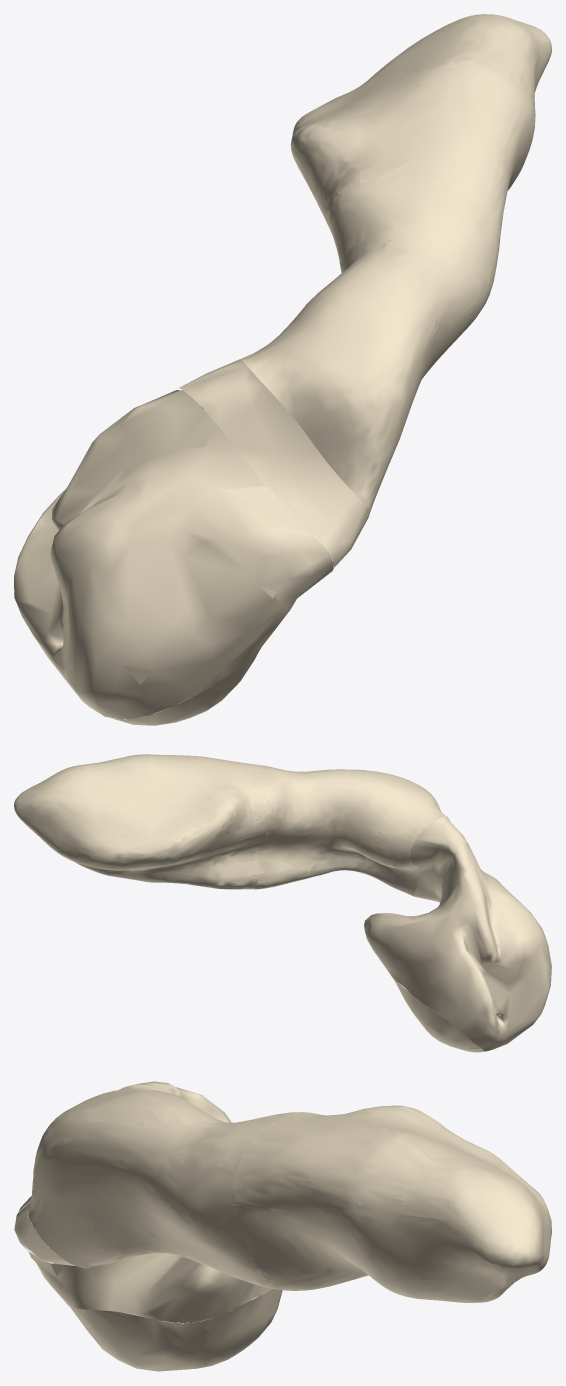
The model's file is 3d-vh-m-pancreas.glb.
3 renders of one model, top to bottom at view 1: azimuth 30°, elevation 25°; view 2: azimuth 150°, elevation 25°; view 3: azimuth 270°, elevation 25°, orthographic. The views are drawn at different scales.
Visible parts, largest first — view 1: VH_M_head_of_pancreas, VH_M_body_of_pancreas, VH_M_tail_of_pancreas, VH_M_neck_of_pancreas, VH_M_uncinate_process_of_the_pancreas; view 2: VH_M_tail_of_pancreas, VH_M_head_of_pancreas, VH_M_body_of_pancreas, VH_M_neck_of_pancreas, VH_M_uncinate_process_of_the_pancreas; view 3: VH_M_tail_of_pancreas, VH_M_body_of_pancreas, VH_M_head_of_pancreas, VH_M_uncinate_process_of_the_pancreas, VH_M_neck_of_pancreas.
Part boxes in pixels (x1,y1,x2,y2): VH_M_head_of_pancreas: [14, 390, 333, 719]; VH_M_body_of_pancreas: [241, 177, 500, 515]; VH_M_tail_of_pancreas: [290, 14, 551, 235]; VH_M_neck_of_pancreas: [178, 359, 369, 567]; VH_M_uncinate_process_of_the_pancreas: [111, 648, 260, 725]; VH_M_tail_of_pancreas: [14, 754, 271, 889]; VH_M_head_of_pancreas: [364, 843, 551, 1051]; VH_M_body_of_pancreas: [242, 762, 445, 896]; VH_M_neck_of_pancreas: [410, 816, 467, 902]; VH_M_uncinate_process_of_the_pancreas: [391, 976, 485, 1052]; VH_M_tail_of_pancreas: [232, 1105, 551, 1302]; VH_M_body_of_pancreas: [28, 1084, 301, 1289]; VH_M_head_of_pancreas: [17, 1087, 271, 1322]; VH_M_uncinate_process_of_the_pancreas: [70, 1288, 282, 1371]; VH_M_neck_of_pancreas: [14, 1081, 180, 1265].
Bounding box in the file's own units: 0.1114 × 0.072 × 0.0836.
